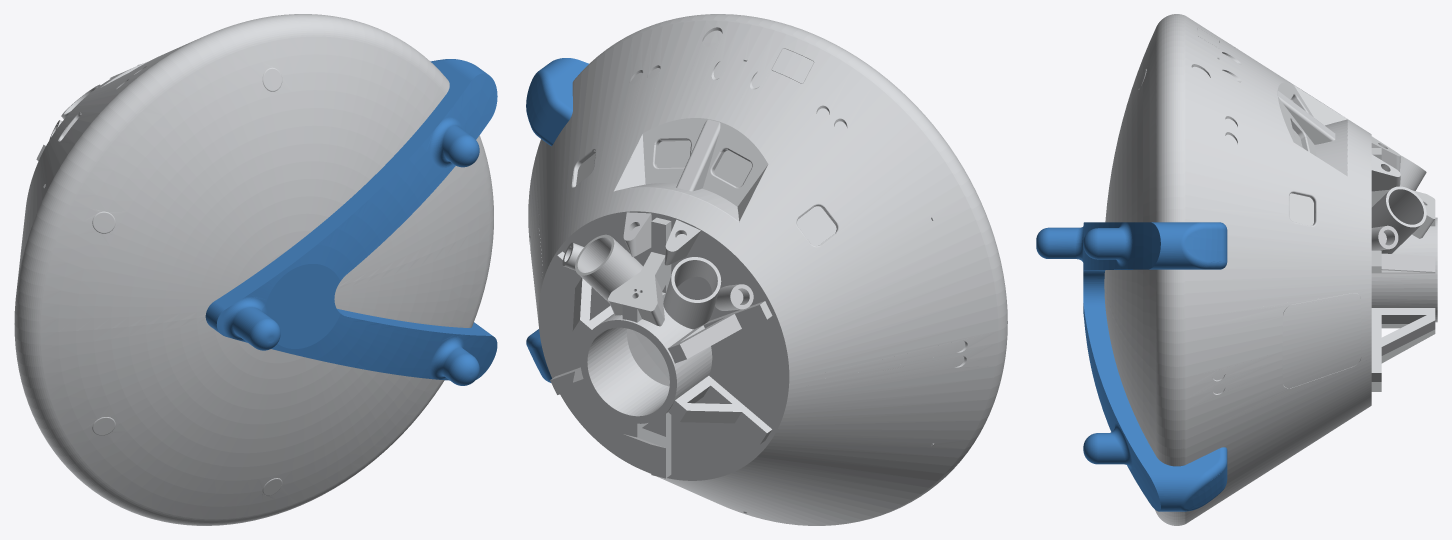
File: orion_capsule.glb
3 views of the same model, side by side, from view 1: azimuth 30°, elevation 25°; view 2: azimuth 150°, elevation 25°; view 3: azimuth 270°, elevation 25° (orthographic). The views are drawn at different scales.
Visible parts, largest first — view 1: OrionBody, OrionStand; view 2: OrionBody, OrionStand; view 3: OrionBody, OrionStand.
Part boxes in pixels (box(x1,y1,x2,y2)): OrionBody: box(14, 14, 493, 525); OrionStand: box(205, 59, 497, 385); OrionBody: box(528, 14, 1007, 525); OrionStand: box(526, 58, 588, 382); OrionBody: box(1104, 14, 1437, 525); OrionStand: box(1036, 222, 1227, 511).
Bounding box in the file's own units: 16.31 × 16.3 × 12.78.
